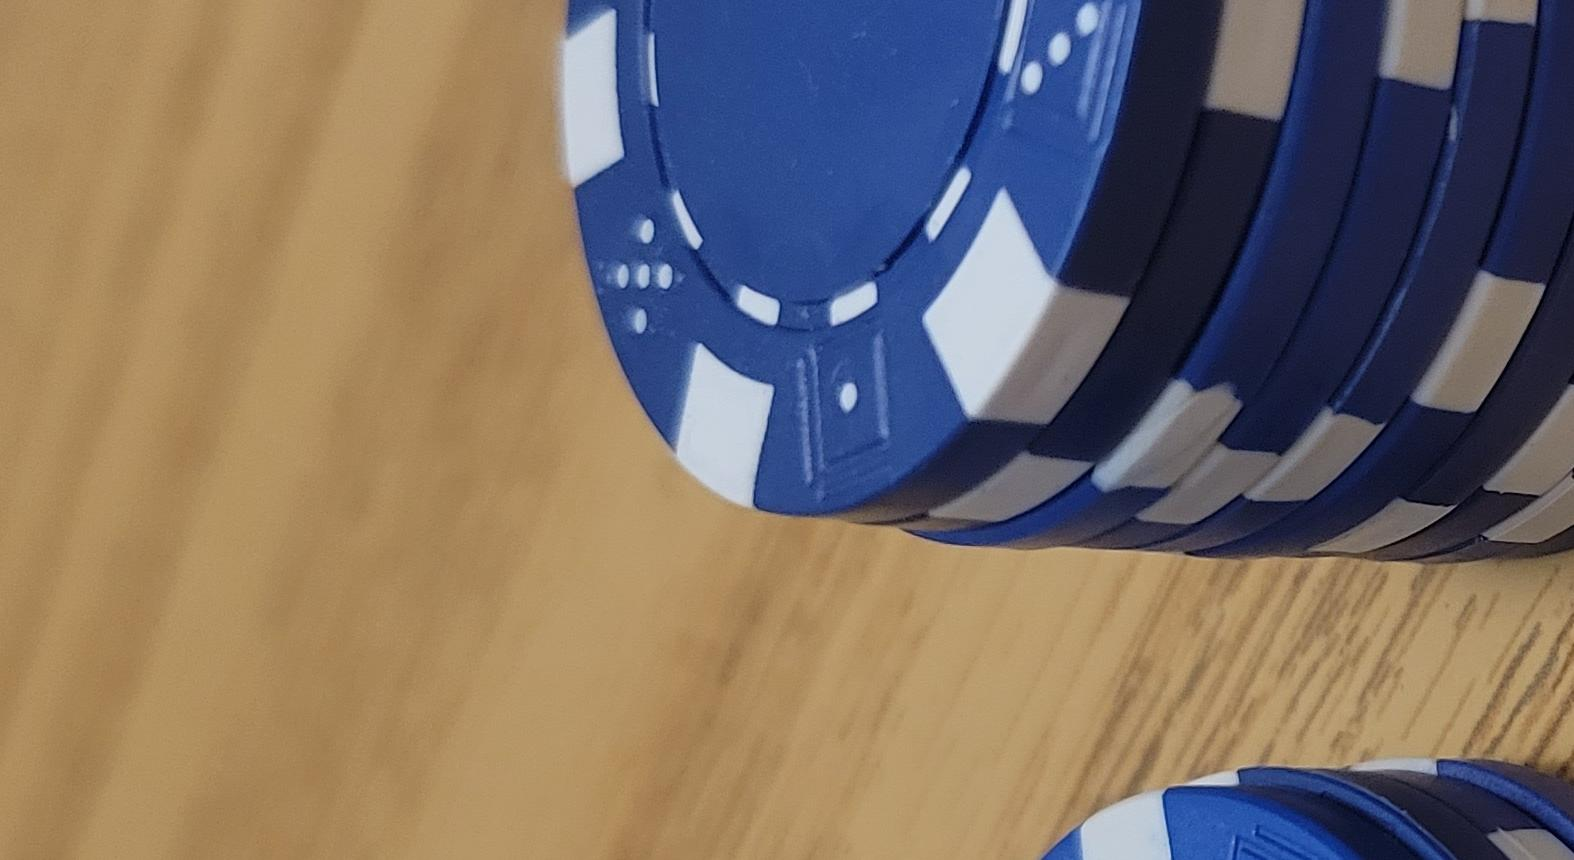Chip: (1, 291, 1101, 860)
